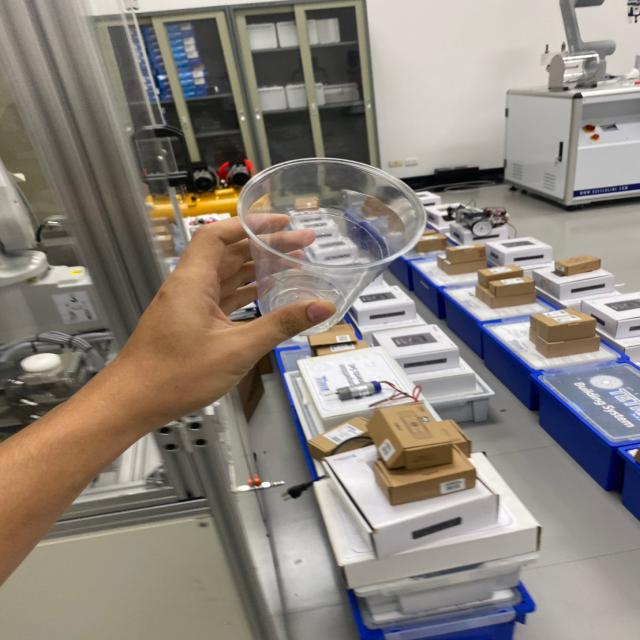glass: (234, 152, 433, 338)
